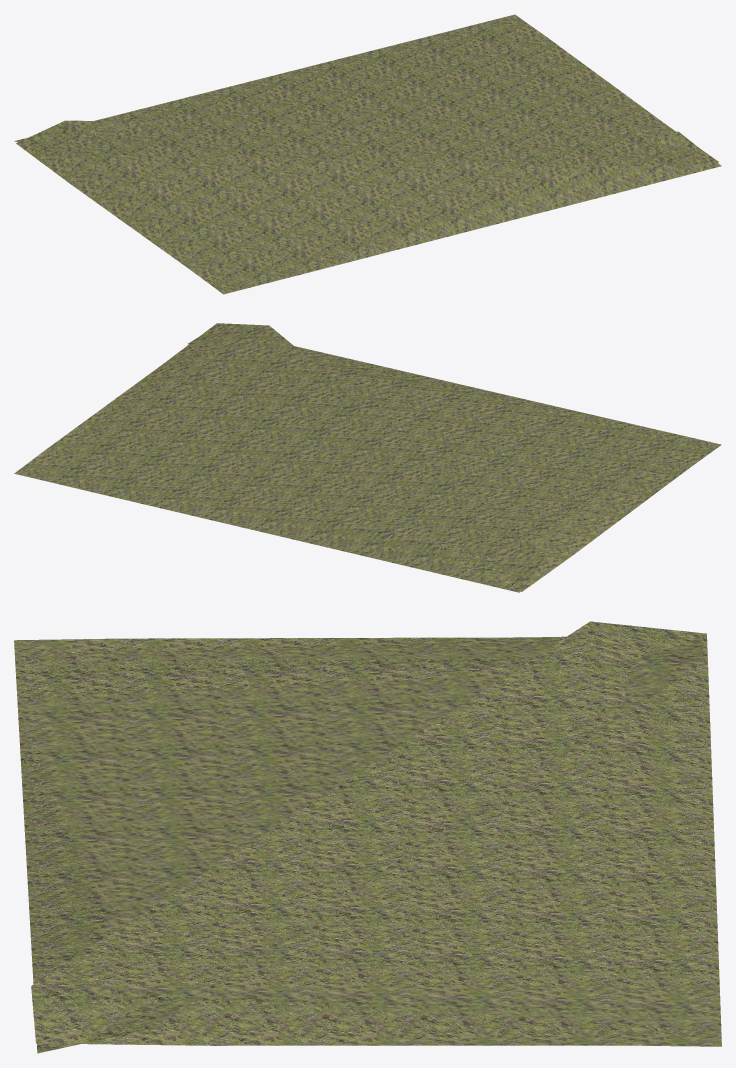
The picture shows the model from 3 angles, top to bottom: view 1: azimuth 30°, elevation 25°; view 2: azimuth 150°, elevation 25°; view 3: azimuth 270°, elevation 25°; orthographic projection. The views are drawn at different scales.
Visible parts, largest first — view 1: Grass___1_, Grass___1_.001; view 2: Grass___1_, Grass___1_.001; view 3: Grass___1_, Grass___1_.001.
Boxes of the visible parts, x1=… form: Grass___1_: x1=14, y1=14, x2=718, y2=166; Grass___1_.001: x1=16, y1=120, x2=721, y2=294; Grass___1_: x1=14, y1=323, x2=546, y2=592; Grass___1_.001: x1=188, y1=334, x2=721, y2=591; Grass___1_: x1=31, y1=621, x2=721, y2=1046; Grass___1_.001: x1=14, y1=636, x2=705, y2=1053.
Size of the model in its own units: 8129 by 212 by 5851.
